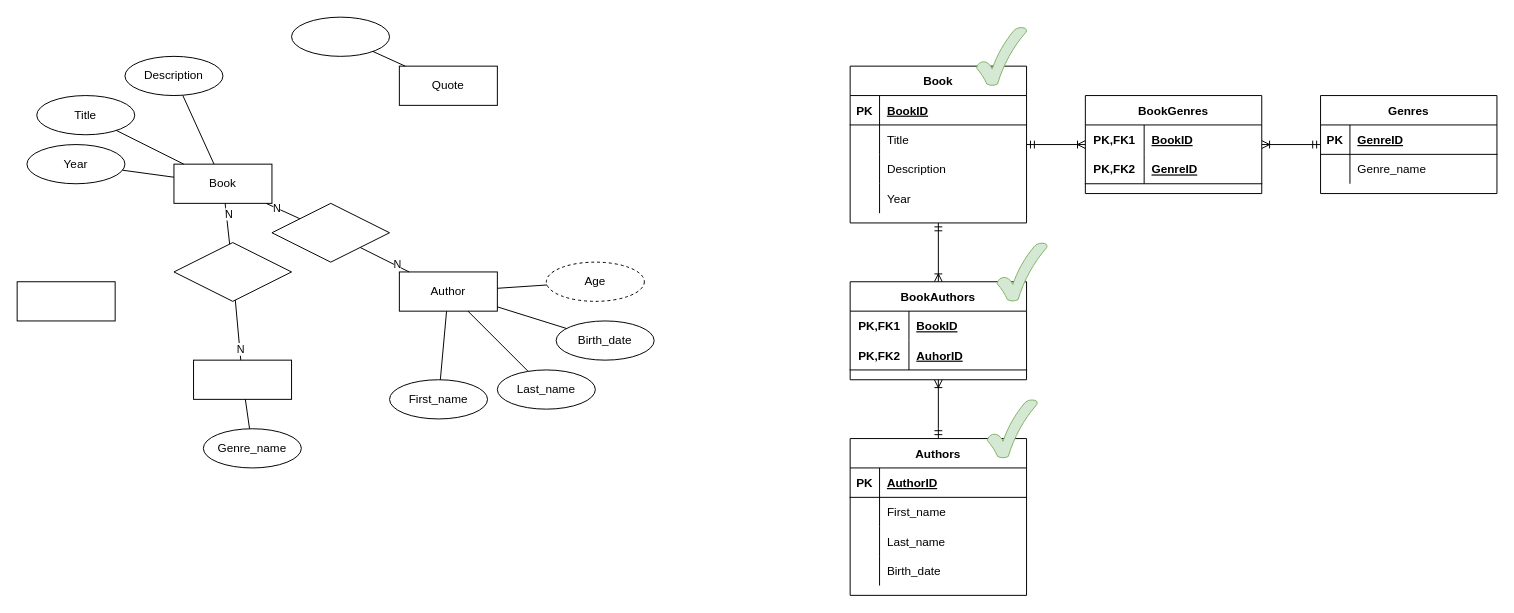
This 1514x613 diagram has some shape labels left out. Here are the shapes that lost their labels. From the top down, the centre of each, then its label:
At [340,36]: "User".
At [330,232]: "Writes".
At [232,271]: "Has".
At [65,301]: "Rating".
At [242,379]: "Genre".
